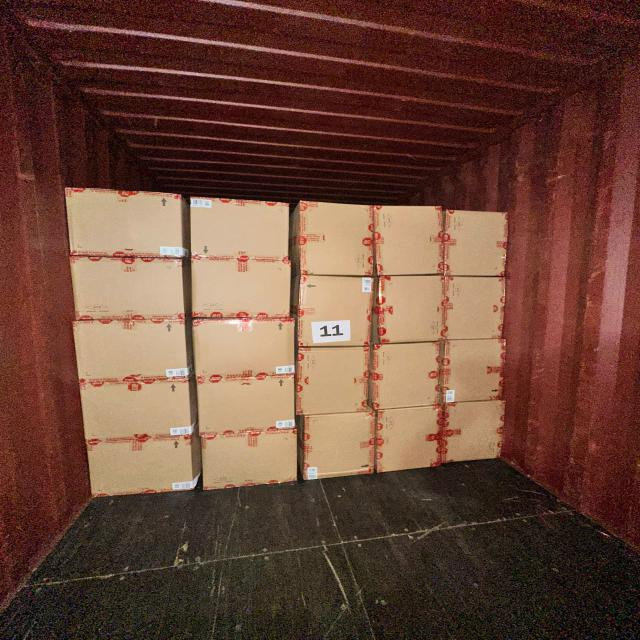Carton: (64, 189, 183, 260), (70, 255, 188, 322), (70, 319, 188, 384), (80, 379, 195, 441), (87, 440, 197, 500), (190, 257, 292, 320), (191, 321, 296, 382), (193, 376, 295, 436), (297, 204, 377, 280), (188, 200, 288, 260), (198, 432, 296, 492), (299, 275, 377, 348), (298, 348, 374, 419), (303, 407, 377, 479), (375, 403, 446, 475), (372, 204, 441, 277), (372, 276, 442, 345), (372, 341, 441, 409), (446, 207, 512, 277), (440, 399, 507, 464), (440, 338, 506, 403), (443, 278, 505, 343)
